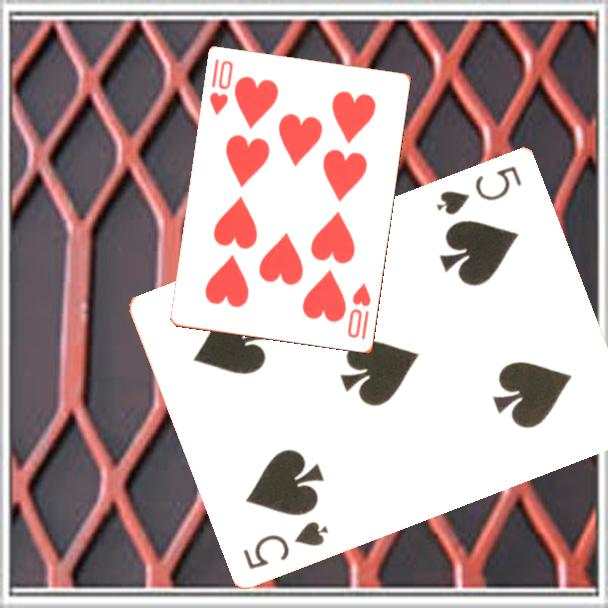h10: (344, 280, 374, 343), (206, 56, 236, 118)
s05: (433, 161, 525, 217), (239, 517, 332, 572)
